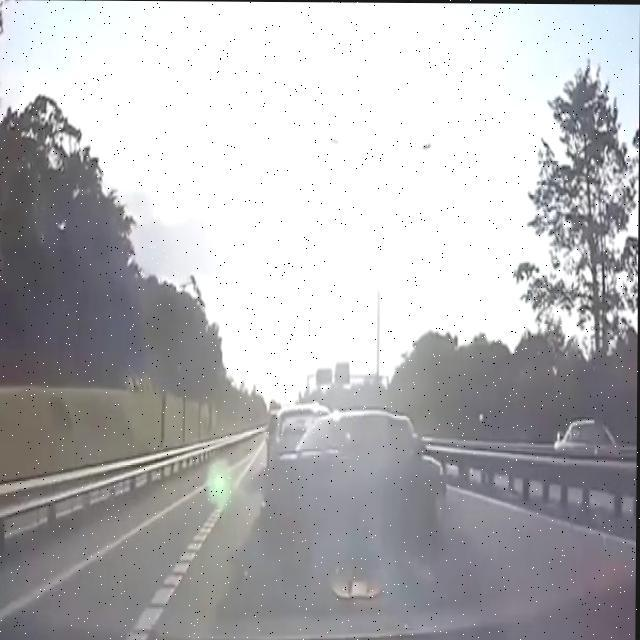multiple_accident: (245, 377, 467, 564)
